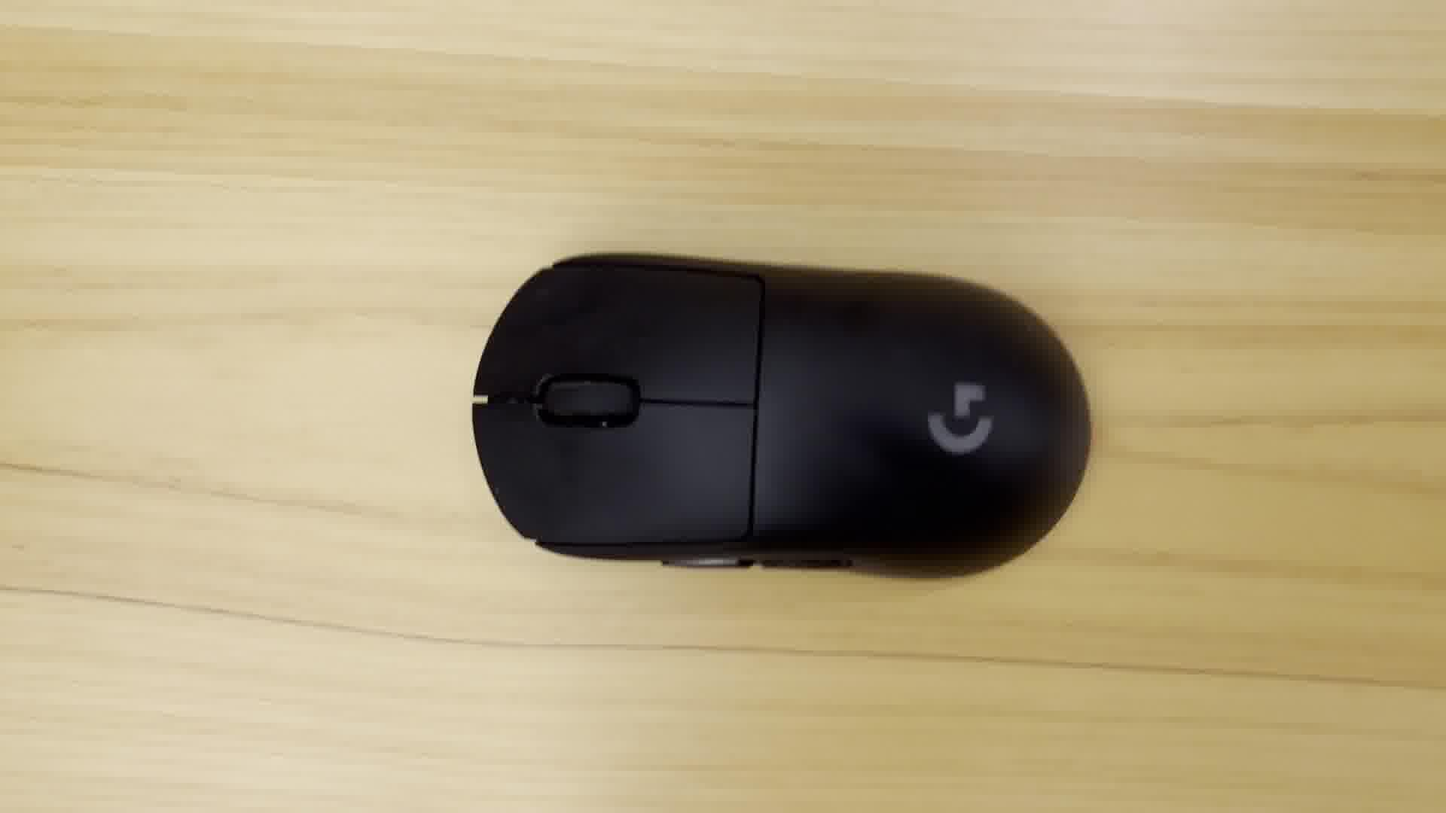logicool: (464, 241, 1098, 589)
